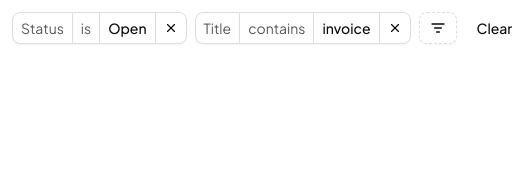
FilterBuilder › removes one filter or clears them all
Click the button named "Remove Status filter": (170, 28) 156,13 -> 186,43
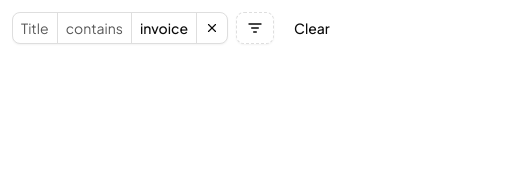
Click the button "Clear": (312, 28) 282,12 -> 342,44
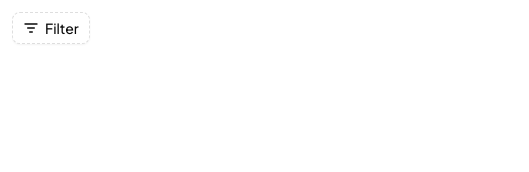
Now the button "Clear" is gone
